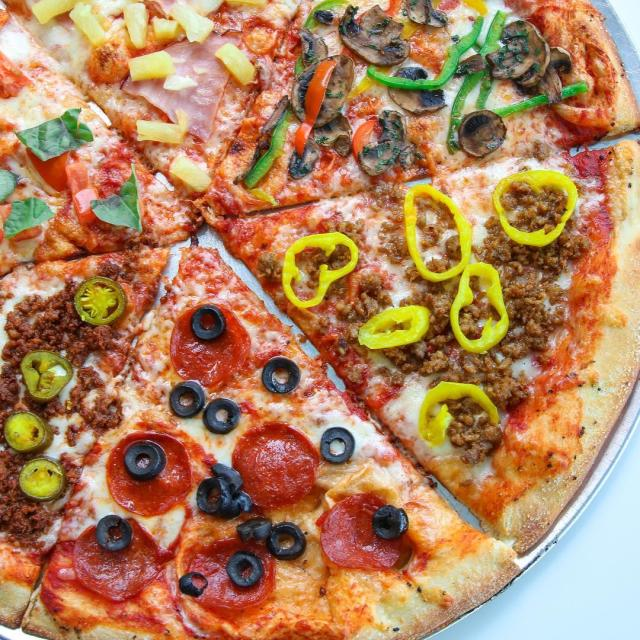basil: (2, 104, 95, 163), (86, 164, 150, 234), (2, 197, 57, 240), (0, 166, 26, 205)
black_olives: (197, 457, 252, 521), (314, 417, 357, 469), (121, 434, 168, 481), (223, 543, 267, 591), (162, 376, 206, 423), (185, 303, 231, 347), (261, 350, 300, 401), (264, 516, 306, 563), (368, 500, 411, 544), (204, 392, 242, 437), (94, 512, 132, 554), (236, 511, 270, 551), (174, 569, 212, 599)
mushrooms: (488, 16, 572, 104), (340, 1, 413, 71), (336, 0, 411, 67), (286, 56, 355, 126), (356, 106, 420, 176), (386, 62, 448, 113), (460, 104, 509, 159), (252, 92, 289, 152), (292, 26, 333, 68), (288, 130, 320, 178), (399, 0, 451, 27), (451, 53, 488, 76), (310, 6, 336, 28)
pepperoni: (171, 526, 280, 612), (66, 507, 162, 602), (228, 418, 323, 514), (104, 423, 194, 518), (318, 482, 408, 576), (168, 299, 252, 390)
pizza: (0, 0, 640, 640)
tomatoes: (22, 139, 92, 197), (0, 202, 42, 251), (0, 49, 32, 106), (63, 182, 99, 228)
